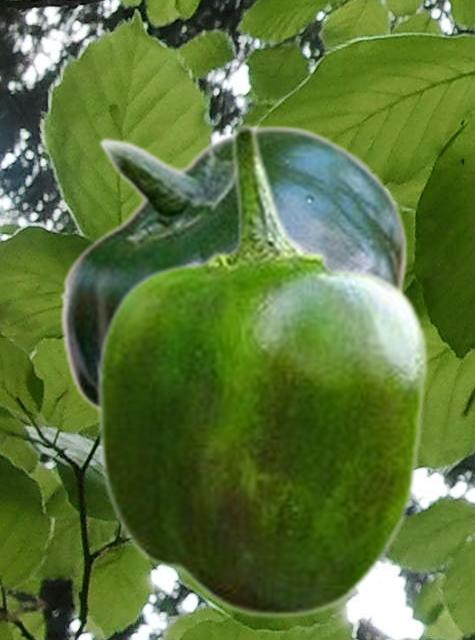bell_pepper: (95, 122, 429, 619), (58, 124, 407, 413)
